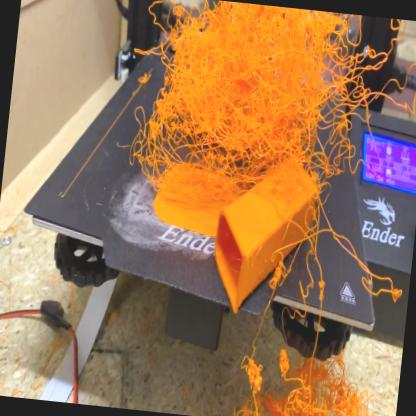fail: (130, 1, 367, 201), (229, 344, 384, 416)
